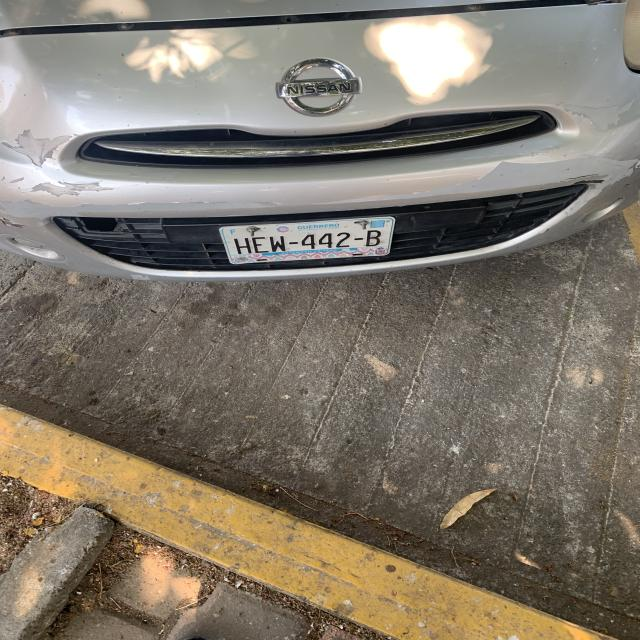placa: (230, 229, 390, 249)
